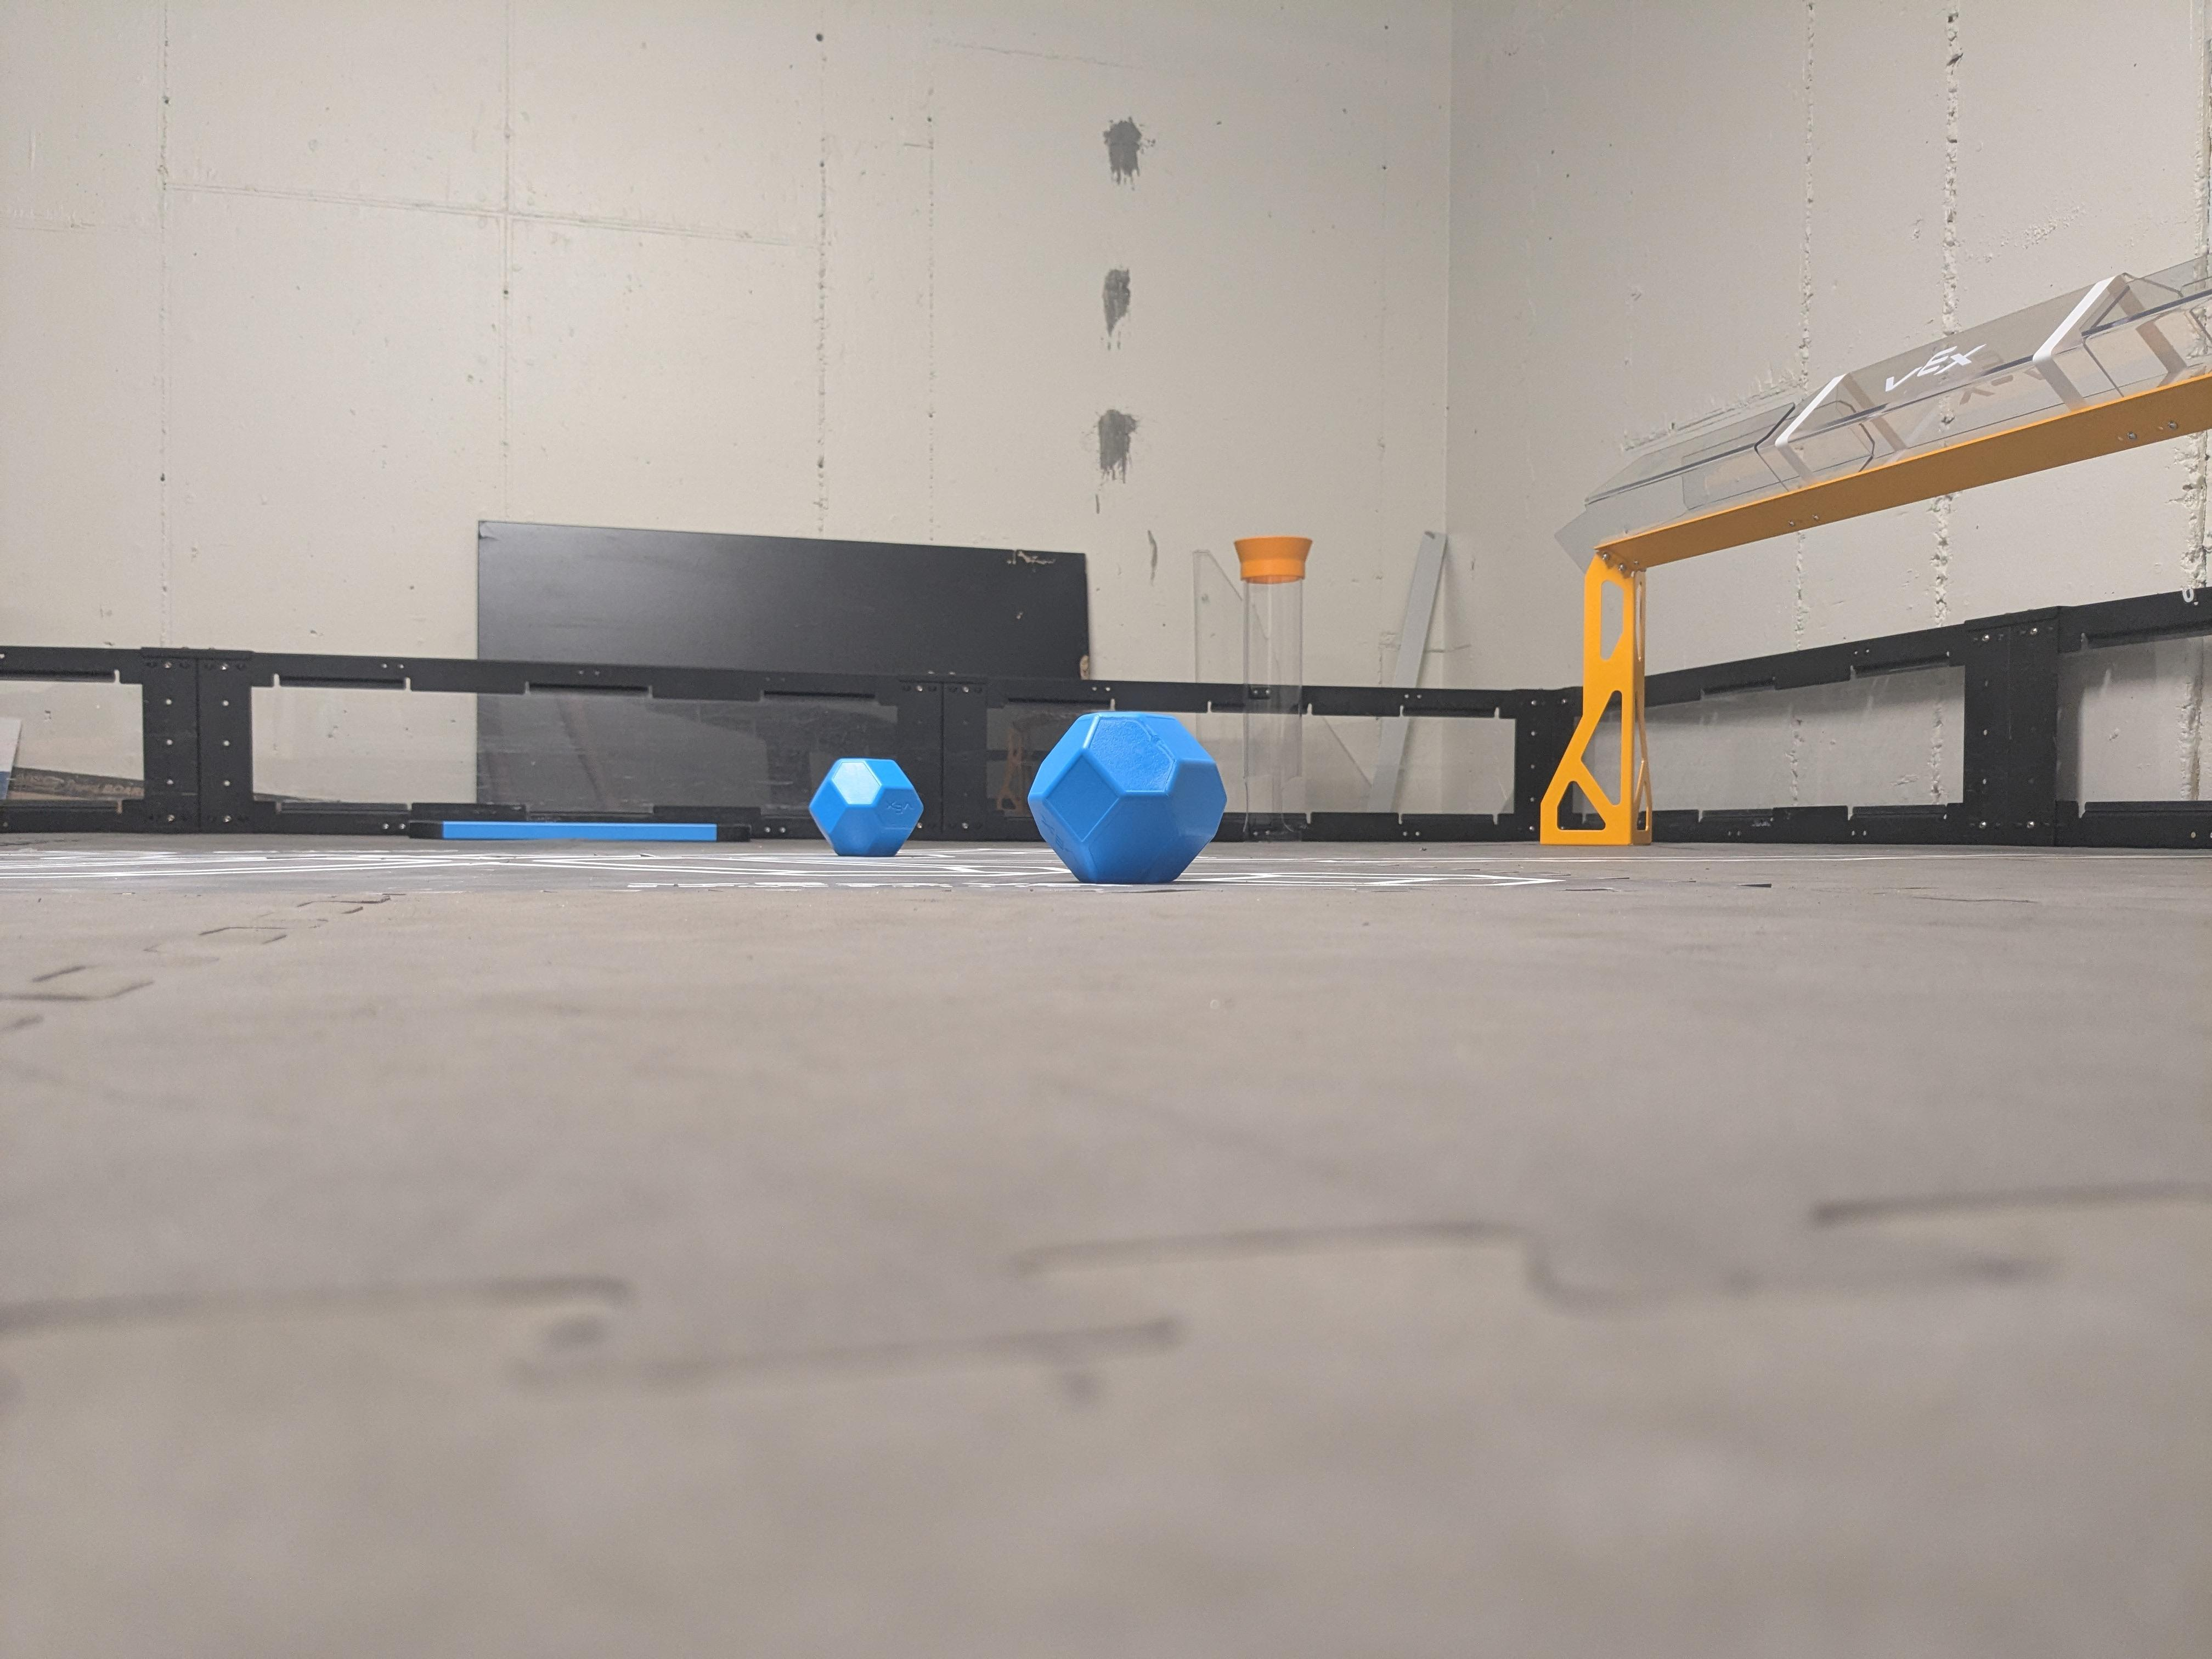Vex-Pieces-BLUE: (1026, 709, 1223, 878), (815, 756, 920, 854)
